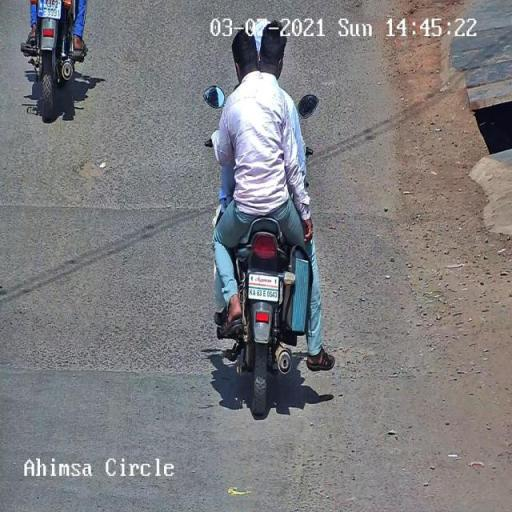tripple riding: (200, 18, 319, 223)
